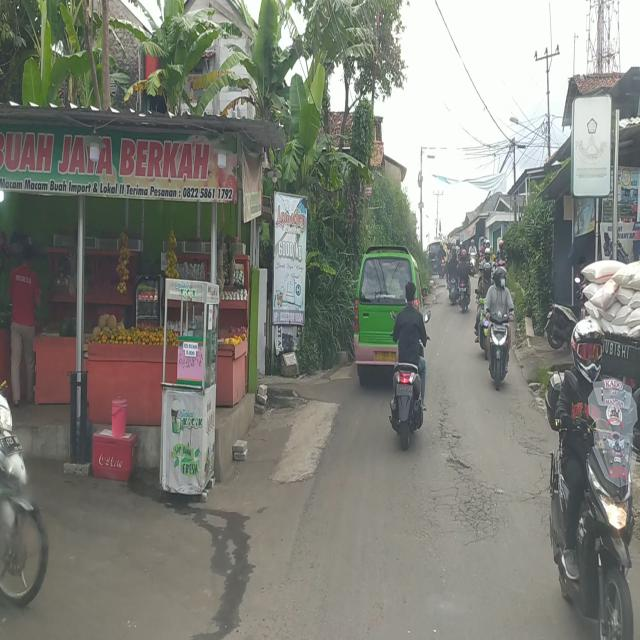Drain Hole: (435, 380, 503, 543), (511, 395, 550, 533)
